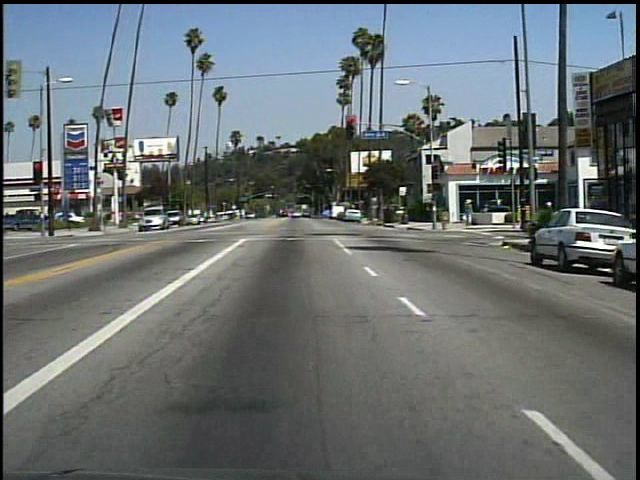person: (537, 194, 560, 235), (460, 194, 476, 227)
